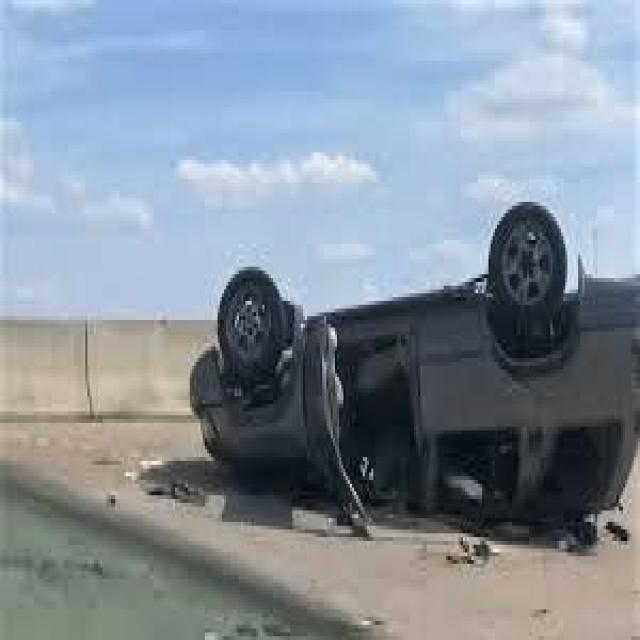severe: (185, 194, 640, 544)
